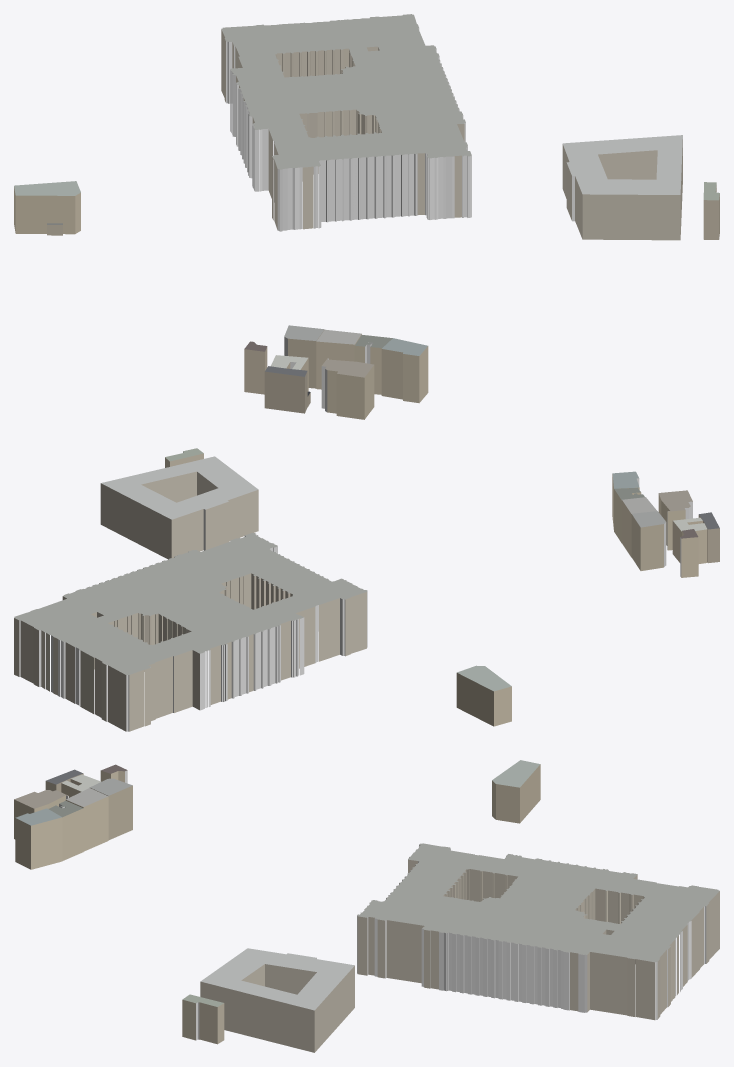
3 views of the same model, one above another, from view 1: azimuth 30°, elevation 25°; view 2: azimuth 150°, elevation 25°; view 3: azimuth 270°, elevation 25° (orthographic). The views are drawn at different scales.
Visible parts, largest first — view 1: tuile; view 2: tuile; view 3: tuile.
Part boxes in pixels (box(x1,y1,x2,y2)): tuile: box(14, 14, 719, 419); tuile: box(14, 448, 719, 731); tuile: box(14, 760, 719, 1052).
Size of the model in its own units: 272 by 28.76 by 318.
